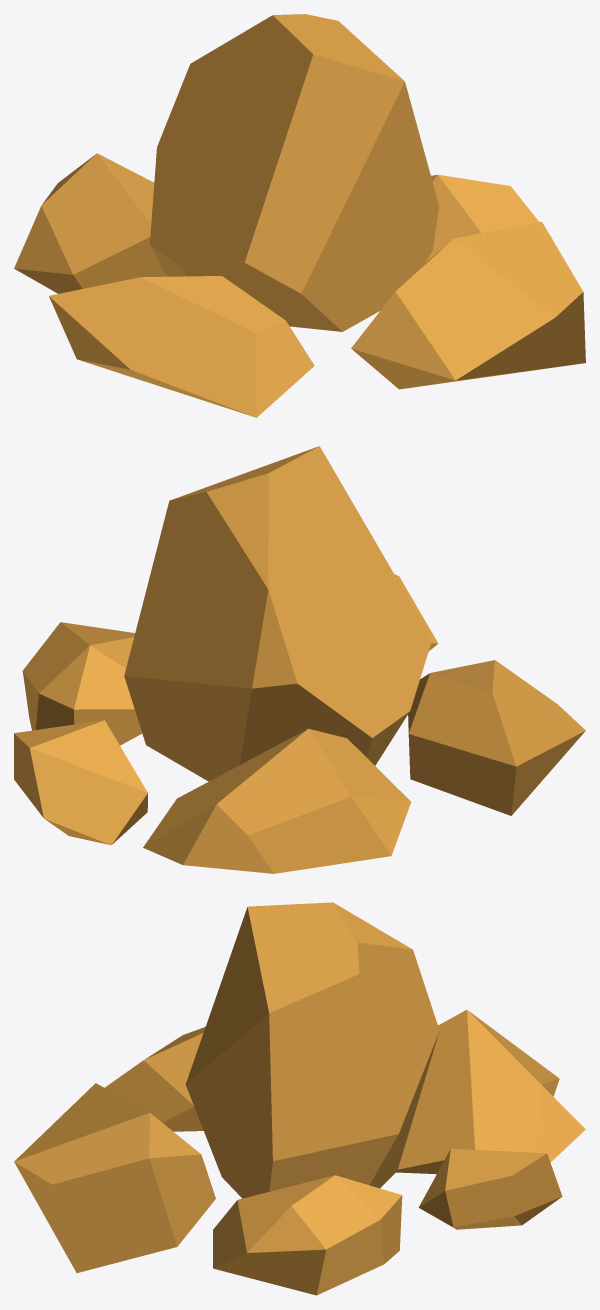
Rendered from iron-ore.fbx.
3 renders of one model, top to bottom at view 1: azimuth 30°, elevation 25°; view 2: azimuth 150°, elevation 25°; view 3: azimuth 270°, elevation 25°, orthographic. The views are drawn at different scales.
Visible parts, largest first — view 1: iron-ore; view 2: iron-ore; view 3: iron-ore.
Part boxes in pixels (left/top/right/bottom): iron-ore: left=14, top=14, right=585, bottom=417; iron-ore: left=14, top=446, right=585, bottom=873; iron-ore: left=14, top=902, right=585, bottom=1295.
Bounding box in the file's own units: 0.9648 × 0.5988 × 1.07.
